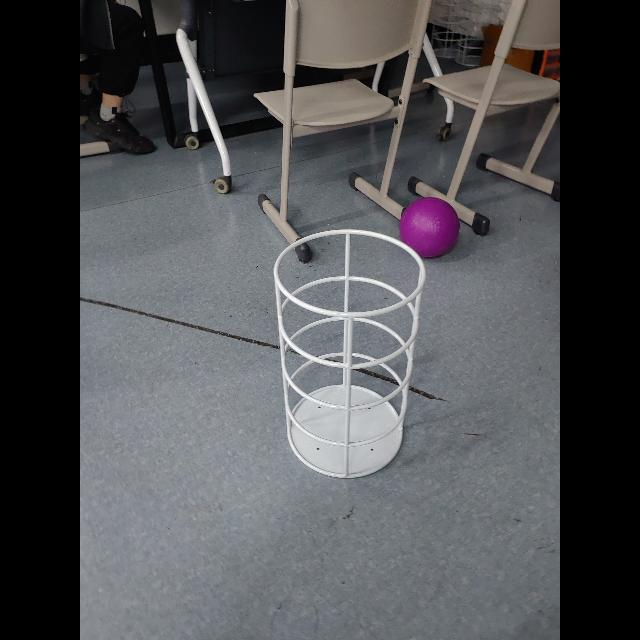S: (270, 226, 428, 484)
